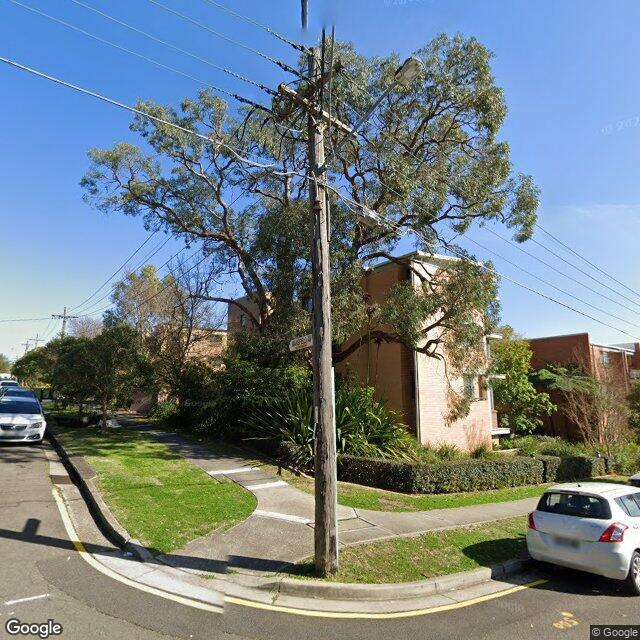crossarm: (272, 60, 345, 124), (278, 82, 358, 139), (52, 314, 79, 319), (28, 338, 46, 342)
streetlight: (317, 57, 425, 173)
timber-pole: (307, 47, 338, 578), (62, 306, 67, 338), (35, 333, 39, 349)
